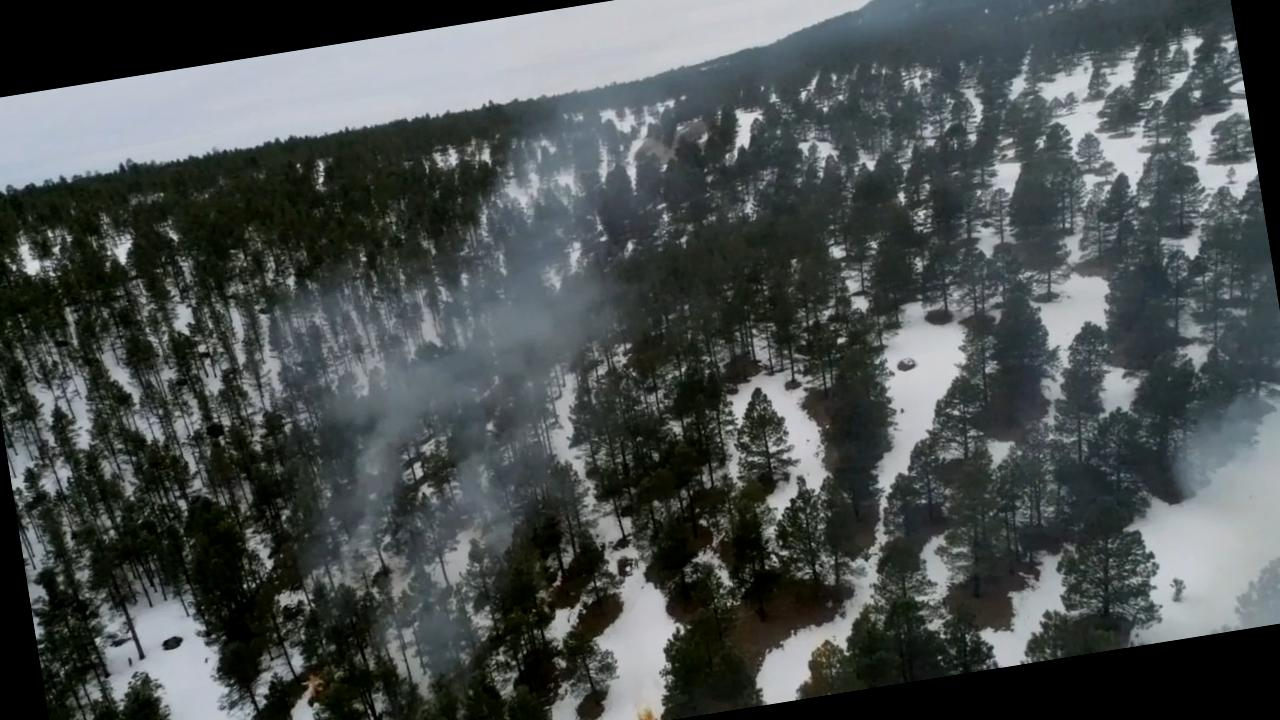smoke: (255, 94, 698, 660)
